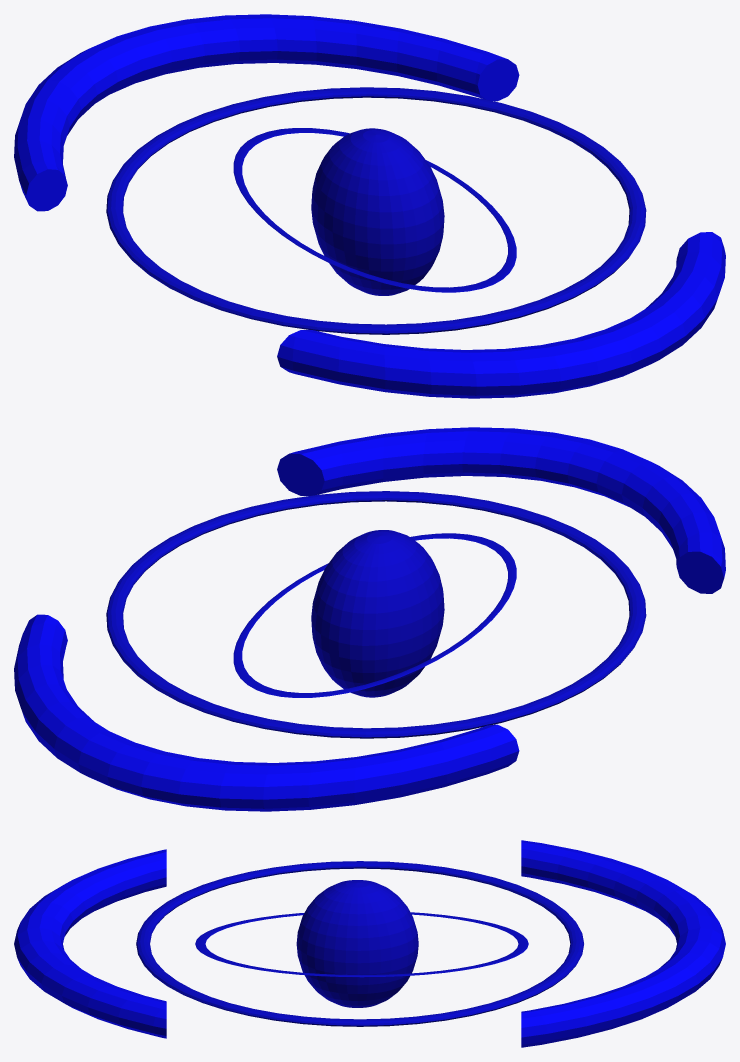
Rendered from jarvis.obj.
The picture shows the model from 3 angles, top to bottom: view 1: azimuth 30°, elevation 25°; view 2: azimuth 150°, elevation 25°; view 3: azimuth 270°, elevation 25°; orthographic projection. The views are drawn at different scales.
Visible parts, largest first — view 1: Torus, center, arc2, arc1; view 2: Torus, center, arc2, arc1; view 3: Torus, center, arc2, arc1.
Boxes of the visible parts, left/top/right/bottom form: Torus: left=14, top=14, right=725, bottom=398; center: left=311, top=128, right=444, bottom=295; arc2: left=106, top=87, right=646, bottom=334; arc1: left=233, top=128, right=516, bottom=292; Torus: left=14, top=427, right=725, bottom=811; center: left=311, top=530, right=444, bottom=697; arc2: left=106, top=491, right=646, bottom=738; arc1: left=233, top=533, right=516, bottom=697; Torus: left=14, top=840, right=725, bottom=1047; center: left=296, top=880, right=418, bottom=1007; arc2: left=136, top=861, right=583, bottom=1026; arc1: left=195, top=912, right=528, bottom=977.
Size of the model in its own units: 6.85 by 2.07 by 11.01.
